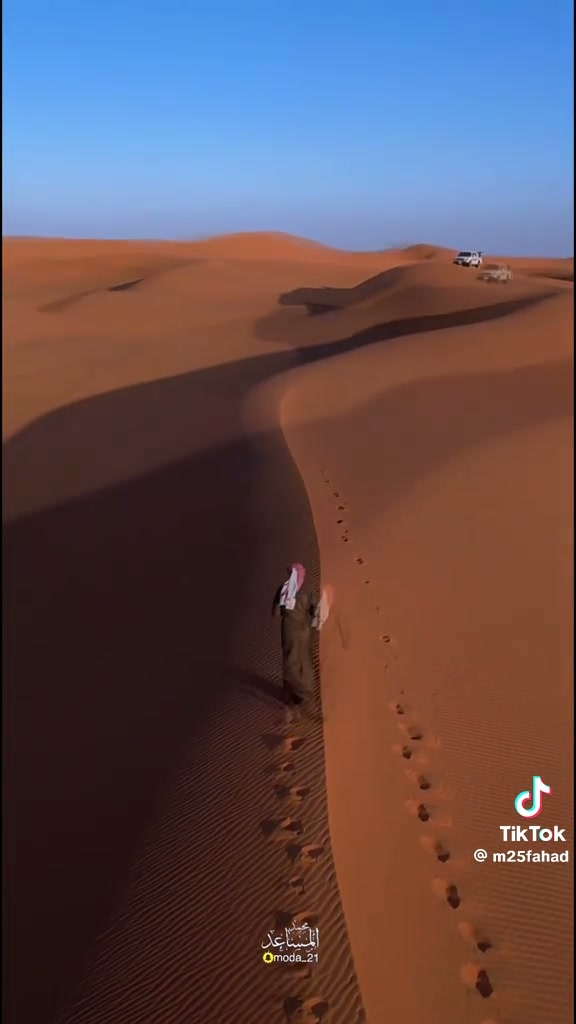human_foot_print: (389, 699, 451, 827), (273, 563, 320, 704), (283, 996, 329, 1023), (461, 963, 493, 998), (458, 921, 493, 952), (260, 817, 303, 842), (285, 842, 324, 869), (262, 732, 305, 754), (434, 878, 460, 909), (420, 836, 450, 862), (274, 783, 309, 804)
